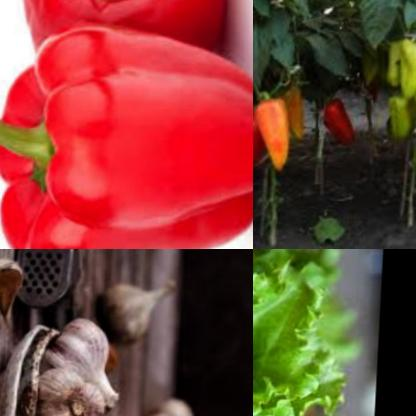bell pepper: (0, 16, 253, 249), (6, 0, 253, 71), (260, 91, 298, 168), (285, 69, 314, 144), (324, 94, 362, 146), (386, 88, 416, 137), (382, 35, 408, 86), (253, 108, 275, 165), (400, 36, 416, 94)
garlic: (87, 265, 200, 345), (40, 319, 131, 416), (40, 369, 114, 416), (138, 384, 232, 416), (0, 257, 31, 320)
salad: (253, 249, 370, 416)
